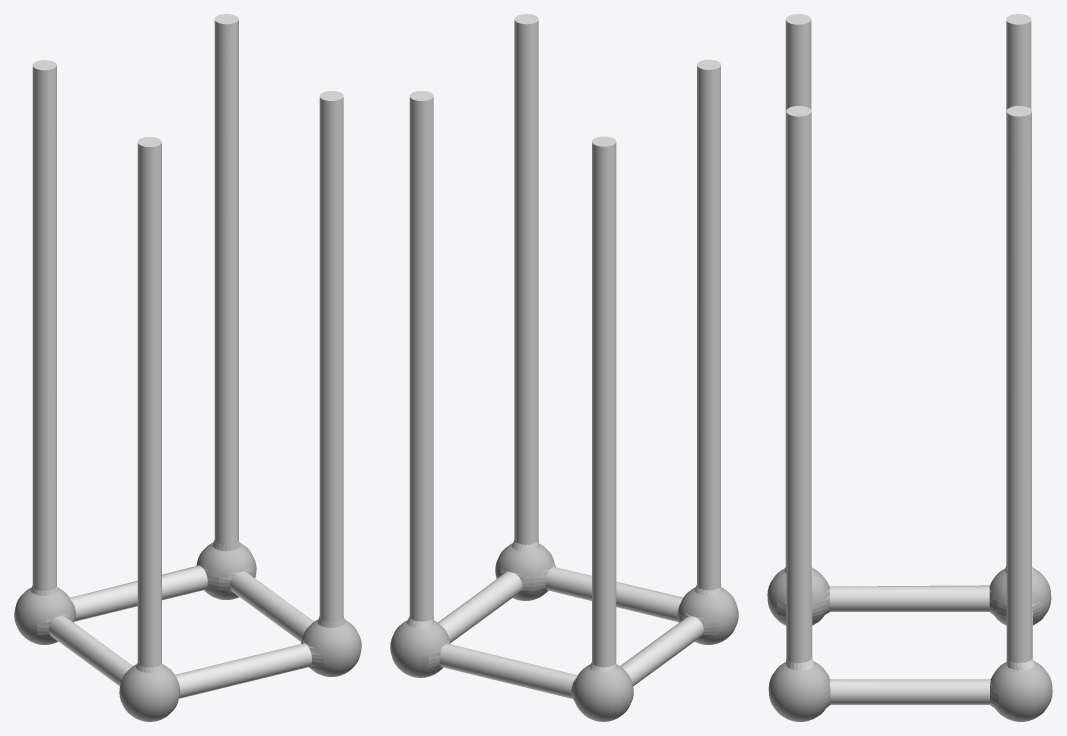
Rendered from ScaffoldMesh.fbx.
3 views of the same model, side by side, from view 1: azimuth 30°, elevation 25°; view 2: azimuth 150°, elevation 25°; view 3: azimuth 270°, elevation 25° (orthographic). The views are drawn at different scales.
Parts seen in each view (by area): view 1: pCylinder67; view 2: pCylinder67; view 3: pCylinder67.
Boxes of the visible parts, <box> form: pCylinder67: <box>14,14,361,721</box>; pCylinder67: <box>390,14,738,721</box>; pCylinder67: <box>767,14,1052,721</box>.
Size of the model in its own units: 222 by 525 by 223.
Materials: 1 (1 with a texture image).
